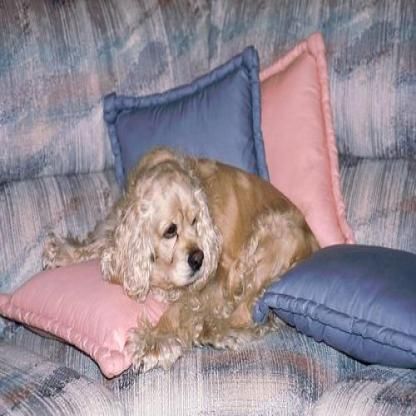cocker_spaniel: (39, 143, 323, 374)
